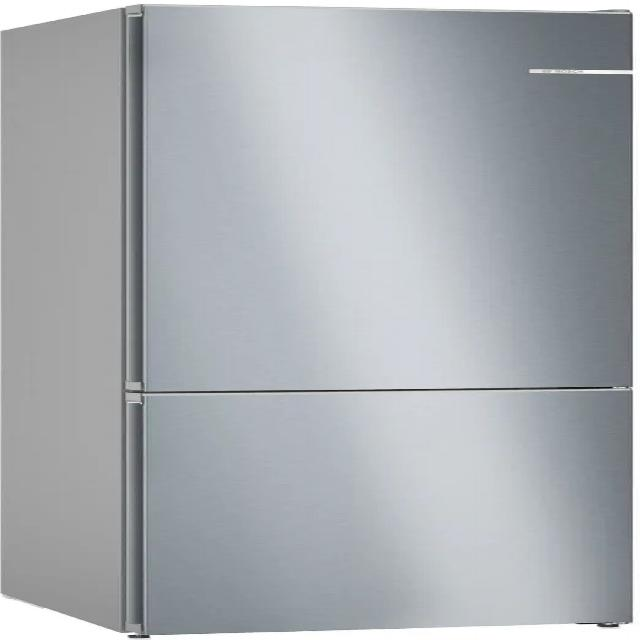refrigerator: (115, 3, 640, 632)
